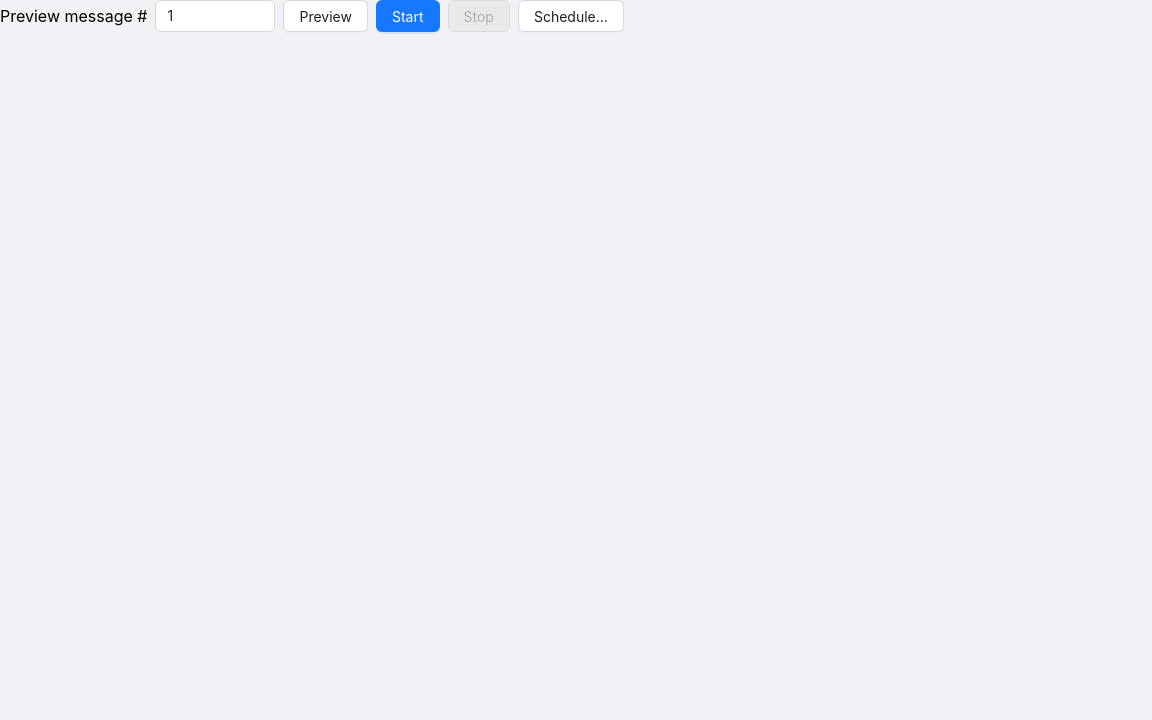
Test: GeneratorActions › resolves from the real value list store when the list exists — no warning
Click the button "Preview" at (326, 16), box left=284, top=0, right=368, bottom=32
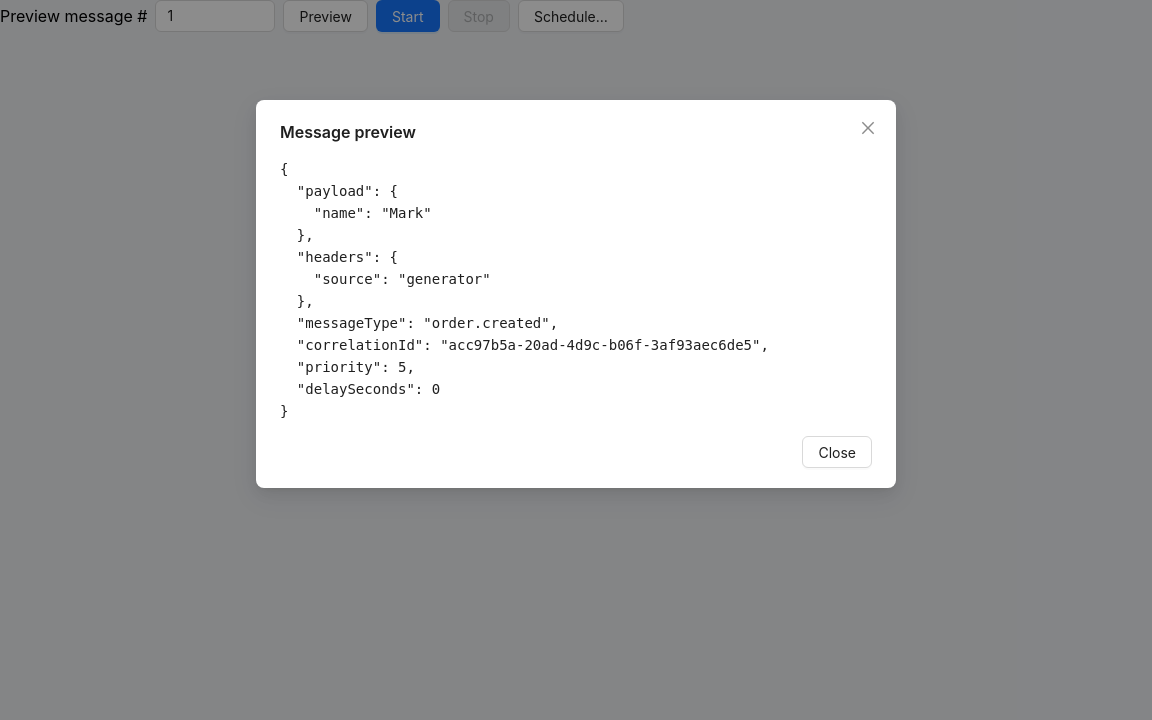
Now the element with test id "preview-modal" shows "\"name\": \"Mark\"", box left=280, top=161, right=769, bottom=419
